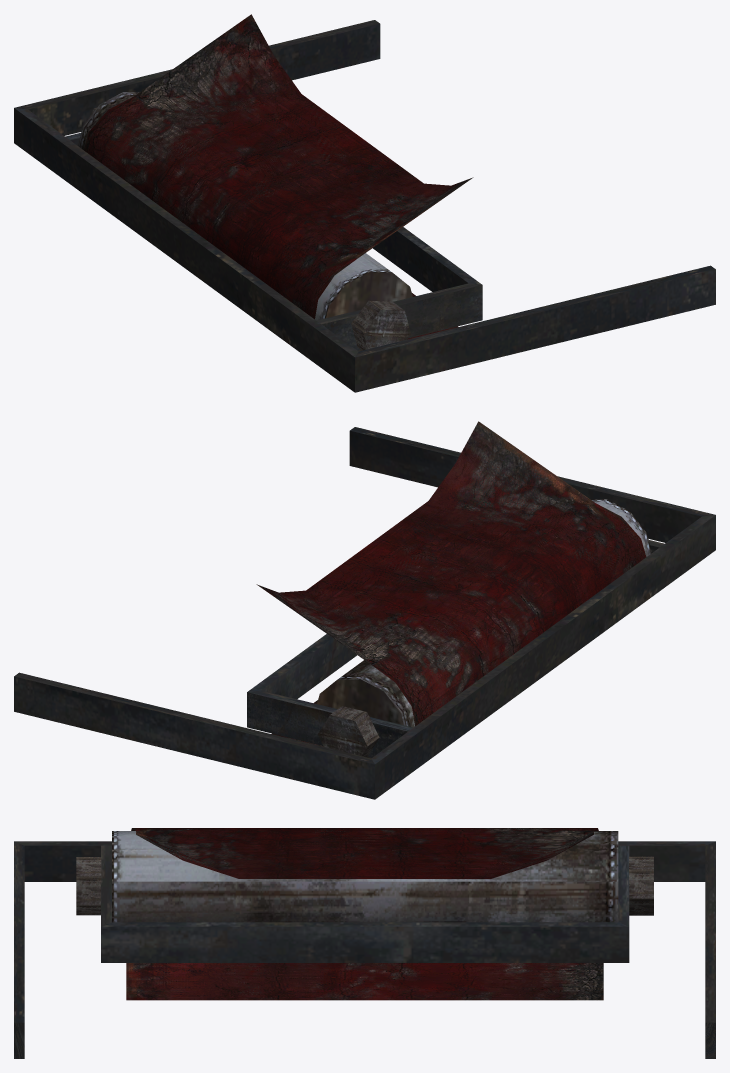
File: conveyor_section_02.DAE
3 views of the same model, one above another, from view 1: azimuth 30°, elevation 25°; view 2: azimuth 150°, elevation 25°; view 3: azimuth 270°, elevation 25° (orthographic). The views are drawn at different scales.
Parts seen in each view (by area): view 1: Object062, Box025, Object061; view 2: Object062, Box025, Object061; view 3: Object062, Box025, Object061.
Part boxes in pixels (x1,y1,x2,y2): Object062: [83, 14, 473, 339]; Box025: [14, 20, 715, 392]; Object061: [78, 92, 412, 351]; Object062: [256, 421, 646, 746]; Box025: [14, 427, 715, 799]; Object061: [317, 499, 651, 758]; Object062: [126, 828, 603, 1000]; Box025: [14, 841, 715, 1058]; Object061: [76, 831, 653, 922].
Bounding box in the file's own units: 1.83 × 0.7821 × 3.
